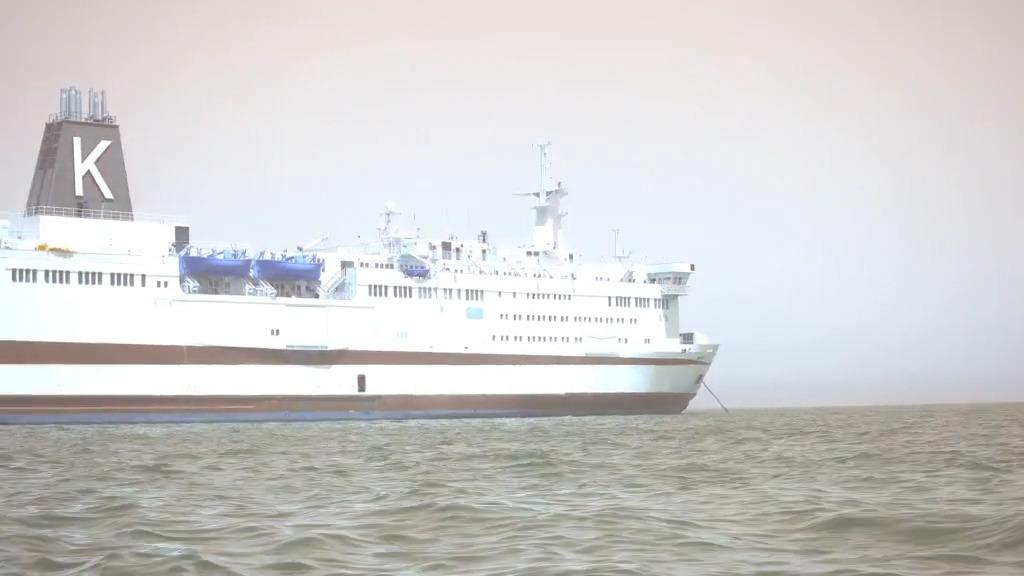PassengerShip: (0, 79, 724, 433)
